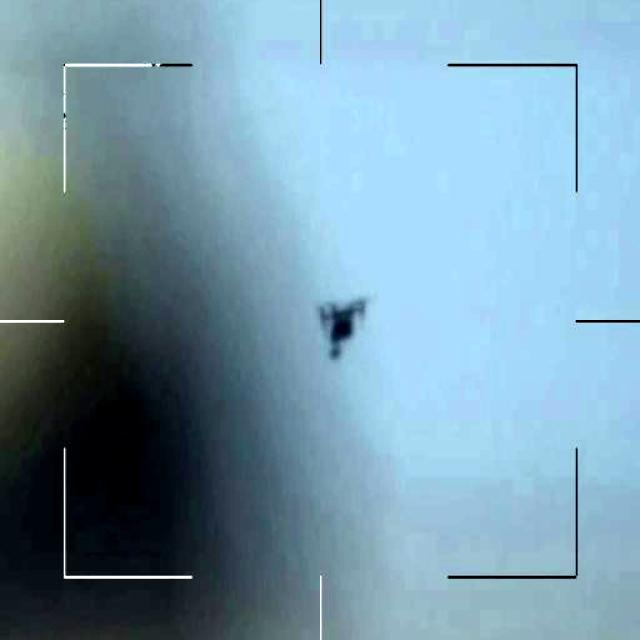bird: (312, 298, 370, 364)
